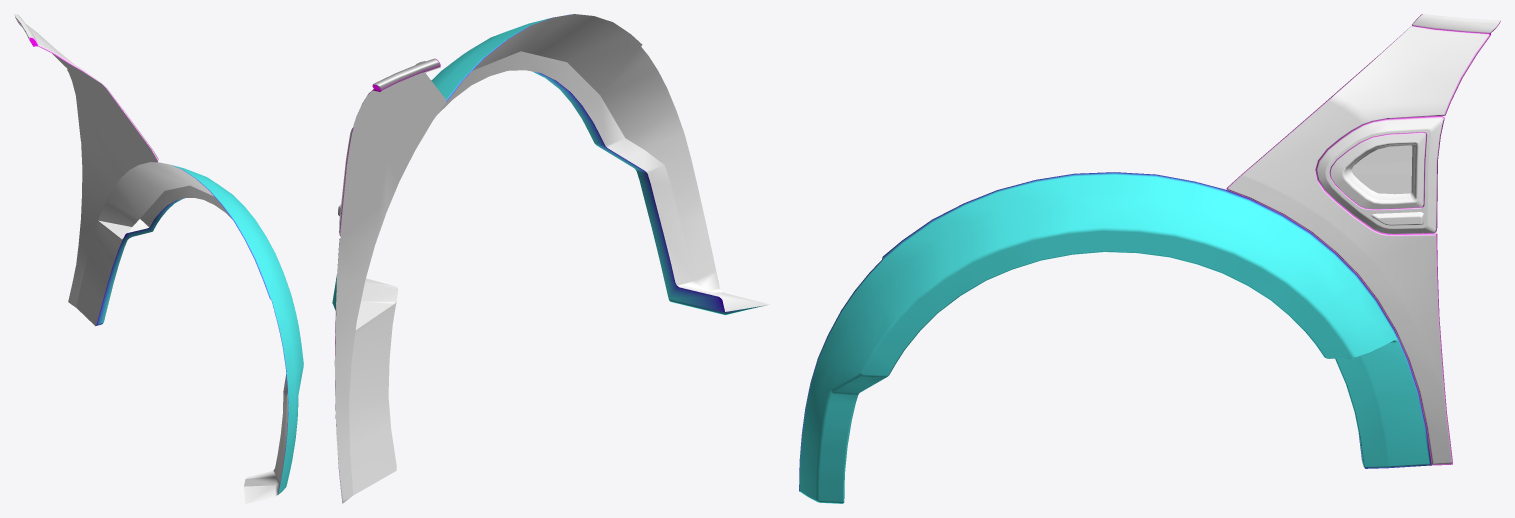
File: Car_Mini_CountrymanJCW_2017_FenderFL_SetD.fbx
3 renders of one model, left to right at view 1: azimuth 30°, elevation 25°; view 2: azimuth 150°, elevation 25°; view 3: azimuth 270°, elevation 25°, orthographic. The views are drawn at different scales.
Parts seen in each view (by area): view 1: FenderFL 6; view 2: FenderFL 6; view 3: FenderFL 6.
Boxes of the visible parts, left/top/right/bottom form: FenderFL 6: left=14, top=14, right=303, bottom=503; FenderFL 6: left=332, top=14, right=769, bottom=503; FenderFL 6: left=799, top=14, right=1500, bottom=503.
Bounding box in the file's own units: 0.2646 × 0.8186 × 1.14.
